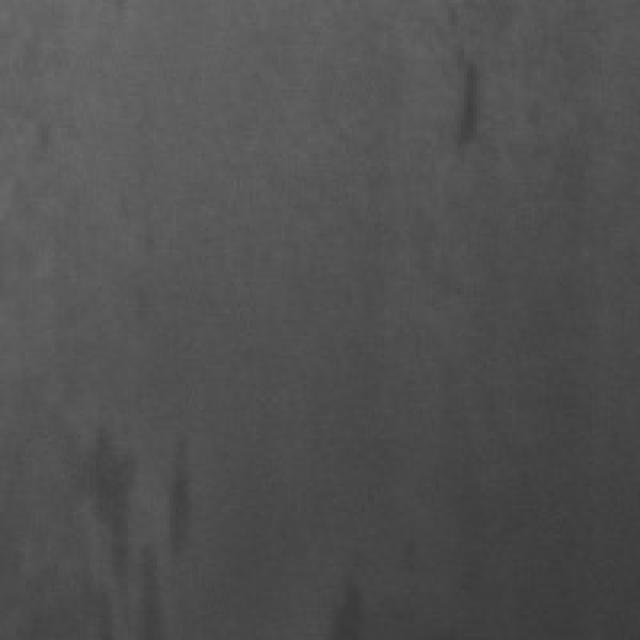inclusion: (64, 413, 202, 627), (432, 32, 493, 166)
